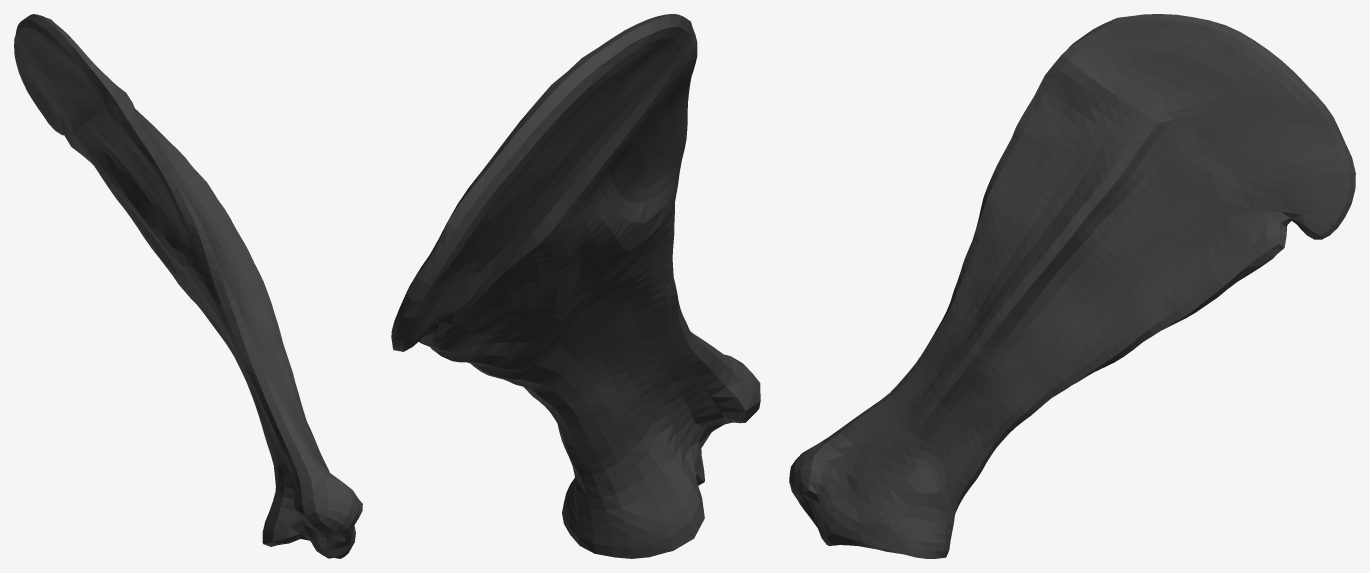
Rendered from Scapula_L.glb.
3 views of the same model, side by side, from view 1: azimuth 30°, elevation 25°; view 2: azimuth 150°, elevation 25°; view 3: azimuth 270°, elevation 25° (orthographic). The views are drawn at different scales.
Visible parts, largest first — view 1: Scapula_L; view 2: Scapula_L; view 3: Scapula_L.
Boxes of the visible parts, box(x1,y1,x2,y2) form: Scapula_L: box(14, 14, 362, 558); Scapula_L: box(391, 14, 760, 558); Scapula_L: box(789, 14, 1355, 558).
Bounding box in the file's own units: 0.1806 × 0.4672 × 0.5002.
Materials: 1 (1 with a texture image).
